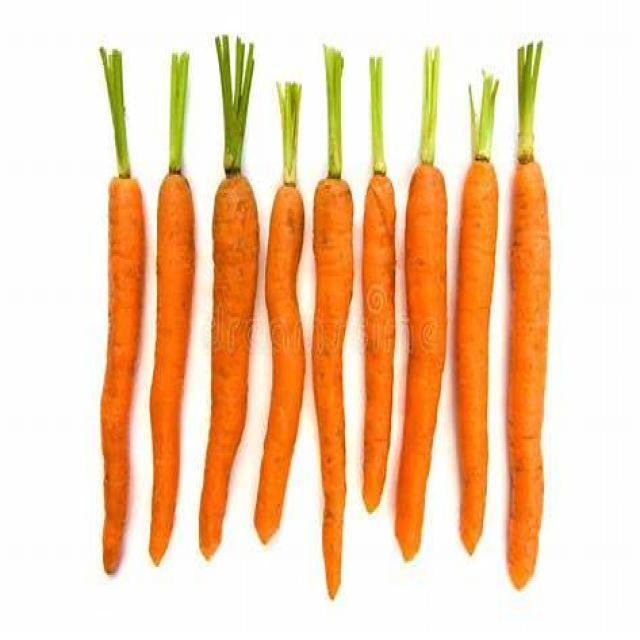Carrot: (194, 175, 262, 563), (501, 156, 554, 591), (394, 164, 452, 556), (447, 162, 501, 560), (310, 175, 358, 603), (143, 171, 194, 568), (252, 182, 306, 544), (100, 172, 147, 584), (358, 172, 396, 508)
